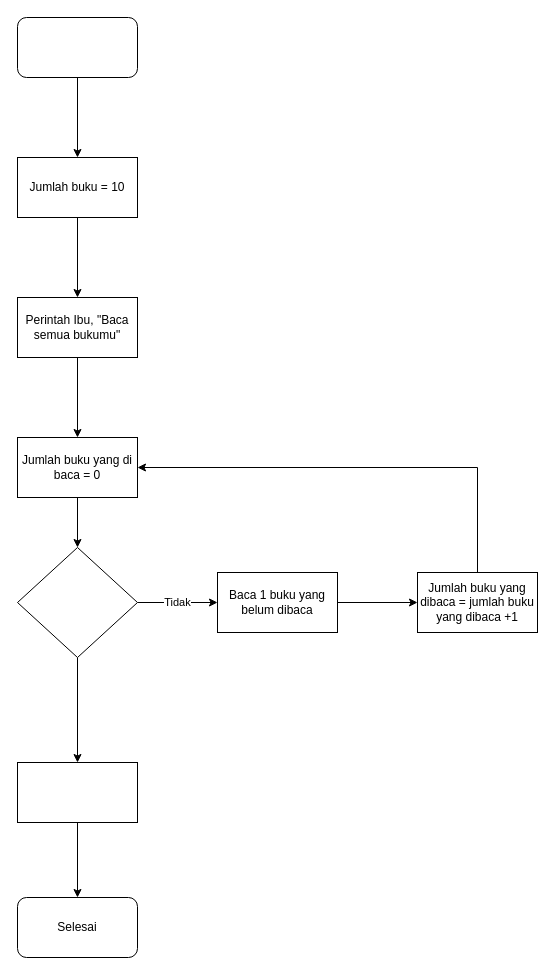
The diagram is 555 pixels wide and 975 high, and some of its shapes have lost their labels. The box of each missing label's shape, as (x1, y1, x2, y2) in pixels:
Jumlah buku yang dibaca == jumlah buku?: (16, 546, 138, 658)
Lapor ke Ibu jika semua buku sudah dibaca: (16, 762, 138, 822)
Mulai: (16, 16, 138, 78)
